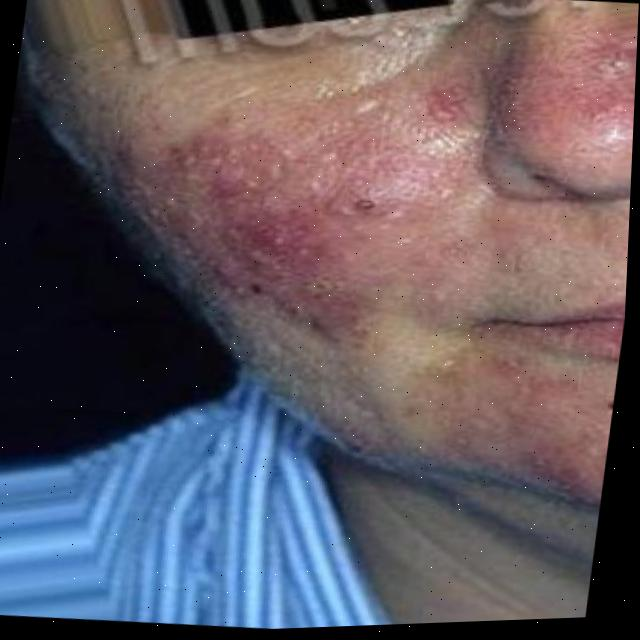Rosacea: (145, 71, 447, 354)
